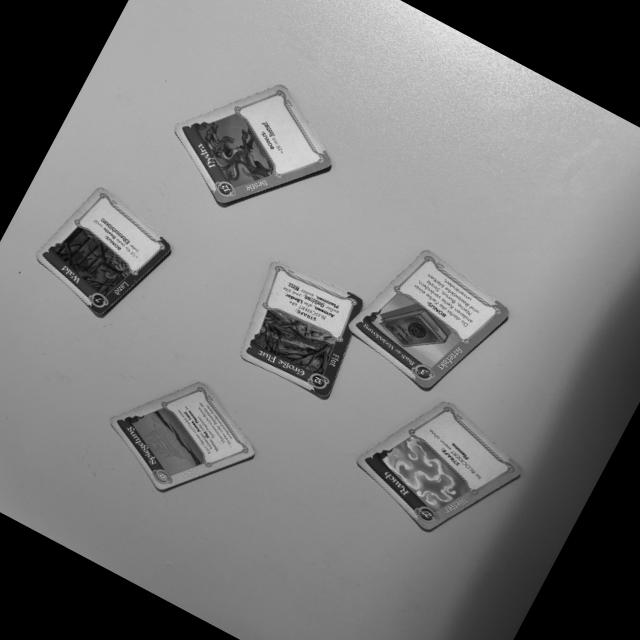Book Of Changes: (347, 246, 517, 393)
Forest: (33, 182, 177, 321)
Great Flood: (236, 255, 367, 401)
Hydra: (167, 83, 335, 205)
Mirage: (107, 375, 257, 492)
Smoke: (353, 399, 528, 532)
